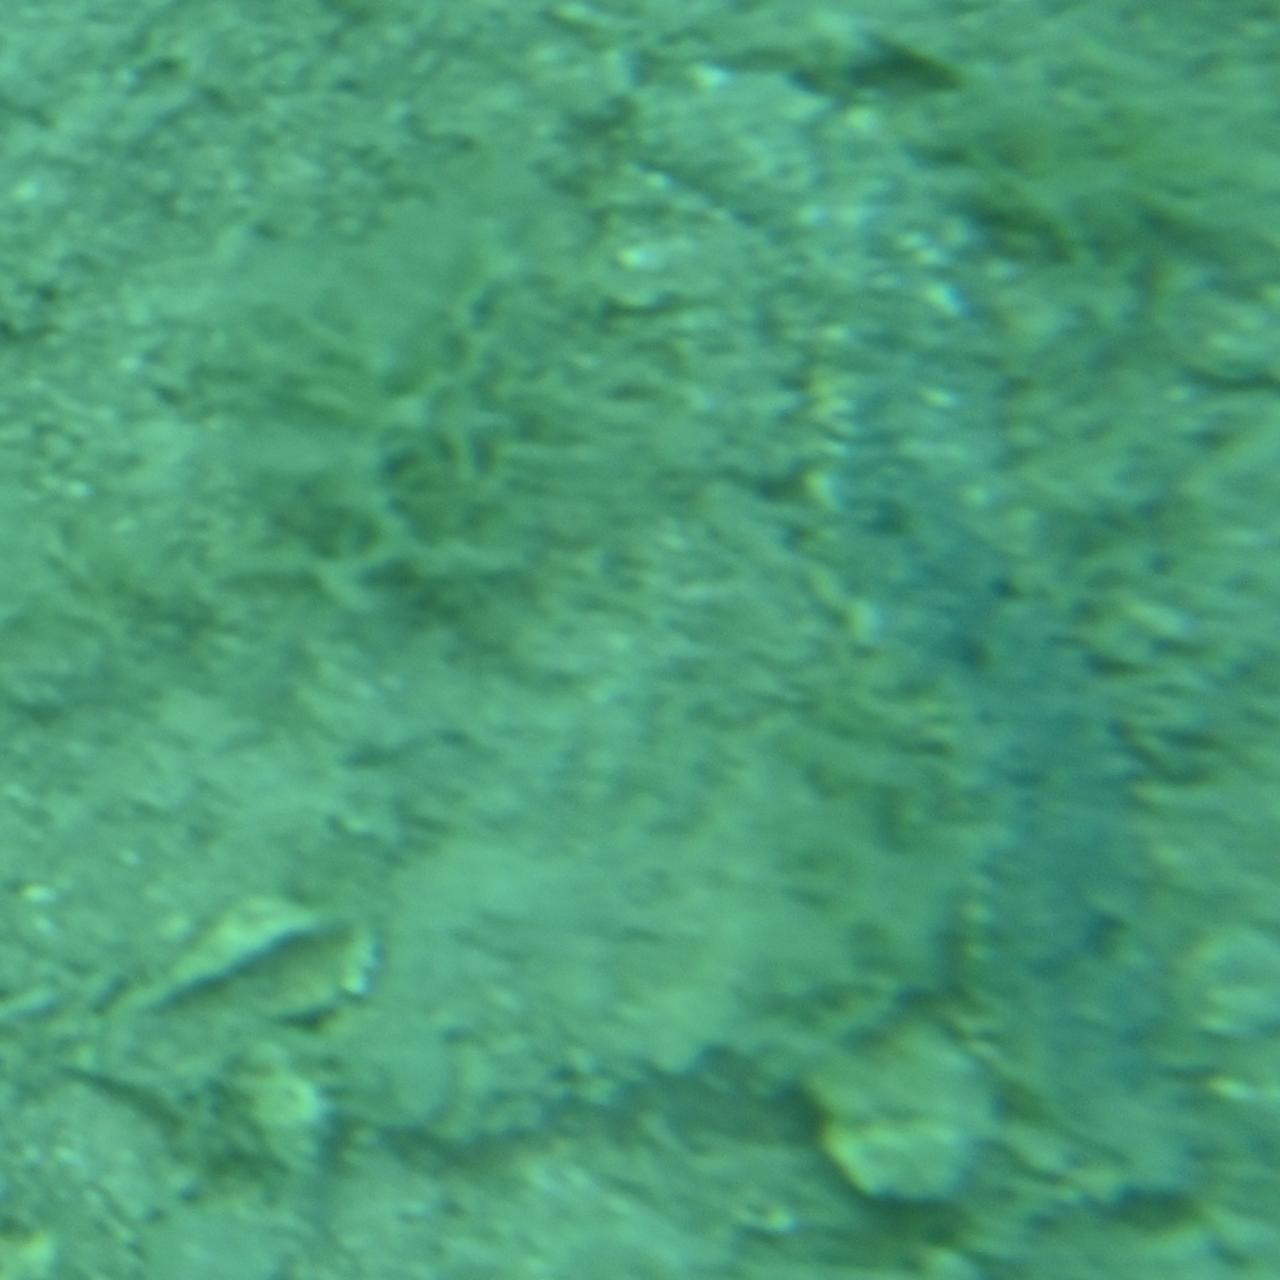Holothuria tubulosa: (526, 45, 1192, 1235)
